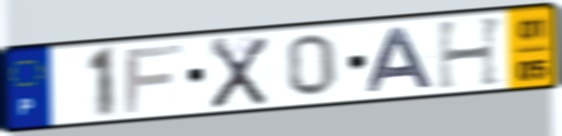0: (284, 31, 342, 100)
1: (85, 44, 123, 122)
A: (365, 25, 437, 95)
F: (121, 41, 186, 116)
H: (433, 13, 508, 93)
X: (207, 35, 271, 111)
